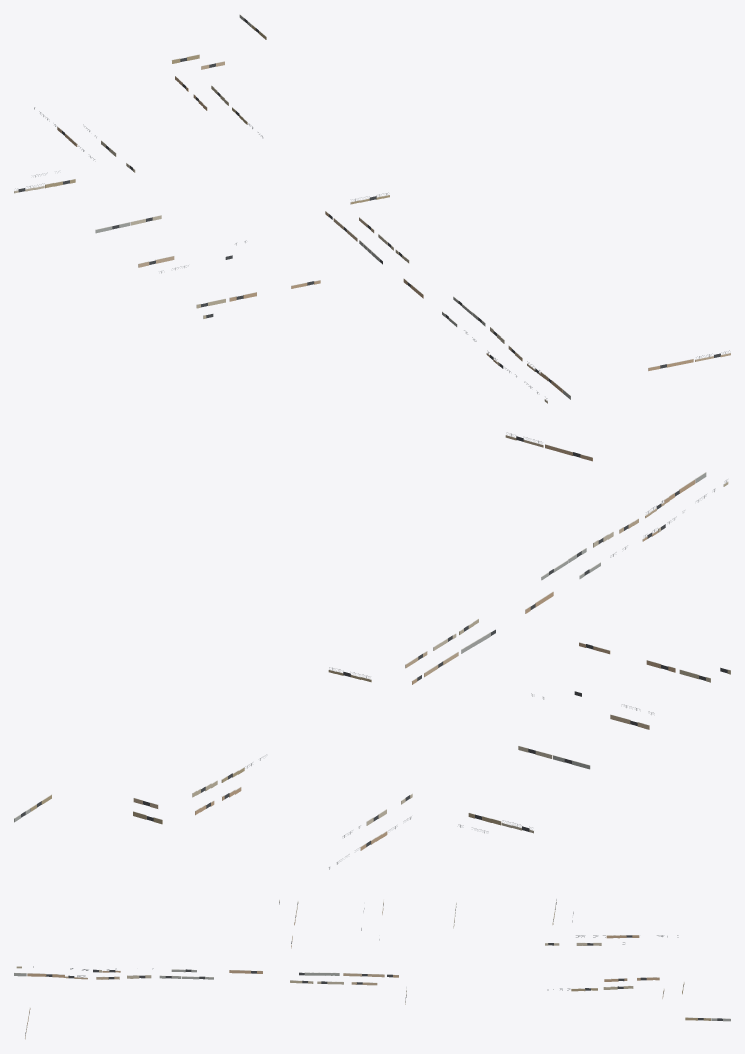
3 renders of one model, top to bottom at view 1: azimuth 30°, elevation 25°; view 2: azimuth 150°, elevation 25°; view 3: azimuth 270°, elevation 25°, orthographic. The views are drawn at different scales.
Parts seen in each view (by area): view 1: nd_st_m16_m4_lod0; view 2: nd_st_m16_m4_lod0; view 3: nd_st_m16_m4_lod0.
Boxes of the visible parts, bbox=[...] form: nd_st_m16_m4_lod0: bbox=[14, 14, 730, 403]; nd_st_m16_m4_lod0: bbox=[14, 432, 730, 869]; nd_st_m16_m4_lod0: bbox=[14, 899, 730, 1039].
Size of what is drawn, in the model's own units: 189 by 7.6 by 412.
